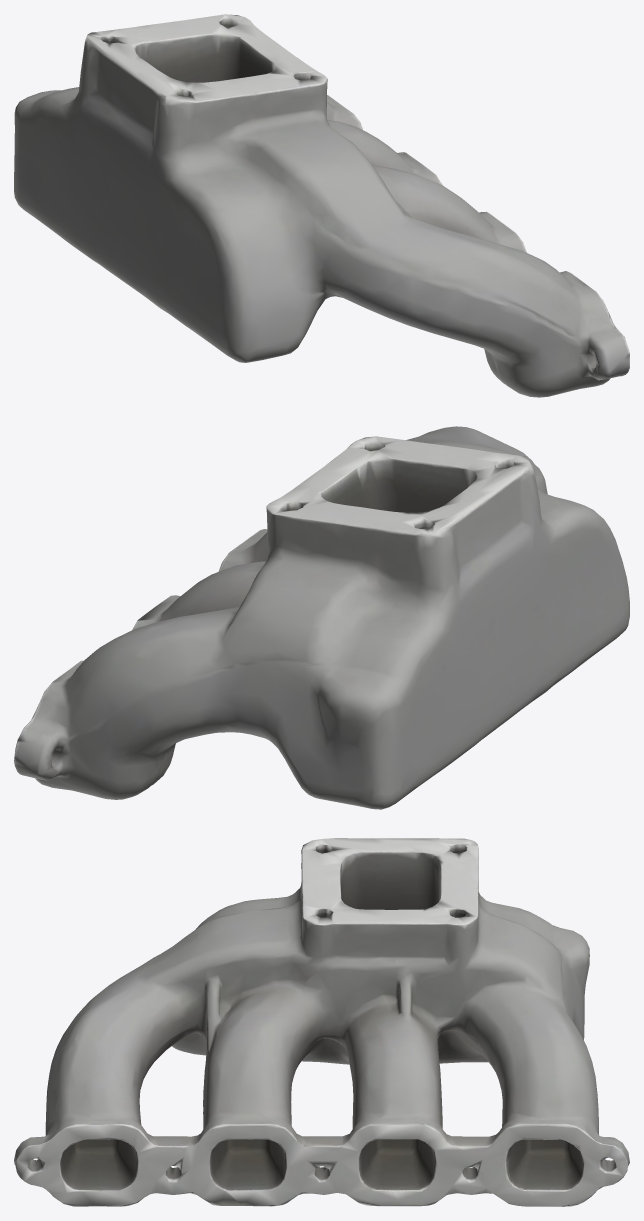
File: inlet-manifold.glb
3 renders of one model, top to bottom at view 1: azimuth 30°, elevation 25°; view 2: azimuth 150°, elevation 25°; view 3: azimuth 270°, elevation 25°, orthographic. The views are drawn at different scales.
Visible parts, largest first — view 1: tripo_node_f5652dba-0f89-484b-b0fa-4a608d2f63de; view 2: tripo_node_f5652dba-0f89-484b-b0fa-4a608d2f63de; view 3: tripo_node_f5652dba-0f89-484b-b0fa-4a608d2f63de.
Part boxes in pixels (box(x1,y1,x2,y2)): tripo_node_f5652dba-0f89-484b-b0fa-4a608d2f63de: box(14, 14, 629, 397); tripo_node_f5652dba-0f89-484b-b0fa-4a608d2f63de: box(14, 426, 629, 809); tripo_node_f5652dba-0f89-484b-b0fa-4a608d2f63de: box(14, 838, 629, 1206).
Size of the model in its own units: 0.5366 by 0.4238 by 1.
Materials: 1 (1 with a texture image).
